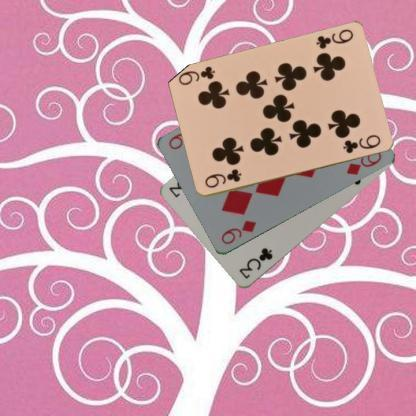3c: (236, 245, 274, 280)
9c: (312, 26, 354, 51), (202, 166, 242, 190)
9d: (218, 218, 258, 247)
